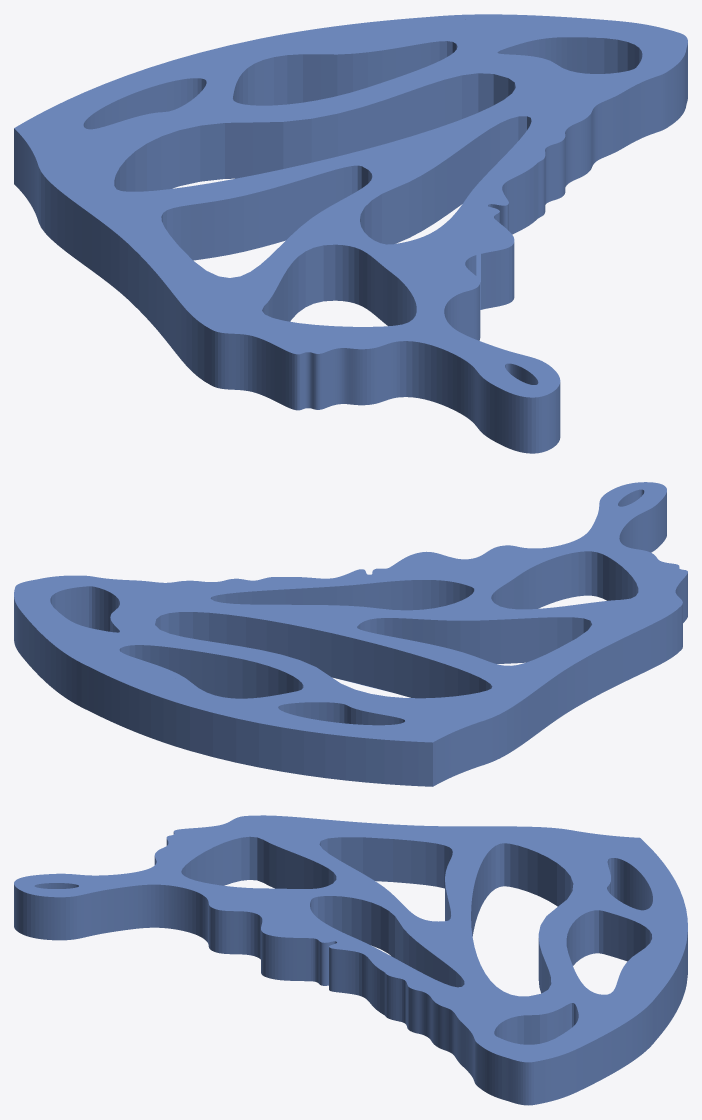
The model's file is tyou.obj.
The picture shows the model from 3 angles, top to bottom: view 1: azimuth 30°, elevation 25°; view 2: azimuth 150°, elevation 25°; view 3: azimuth 270°, elevation 25°; orthographic projection. The views are drawn at different scales.
Visible parts, largest first — view 1: Curve.016; view 2: Curve.016; view 3: Curve.016.
Part boxes in pixels (x1,y1,x2,y2): Curve.016: (14,14,687,453); Curve.016: (14,482,687,786); Curve.016: (14,815,687,1105).
Bounding box in the file's own units: 0.5506 × 0.0448 × 0.6352.
